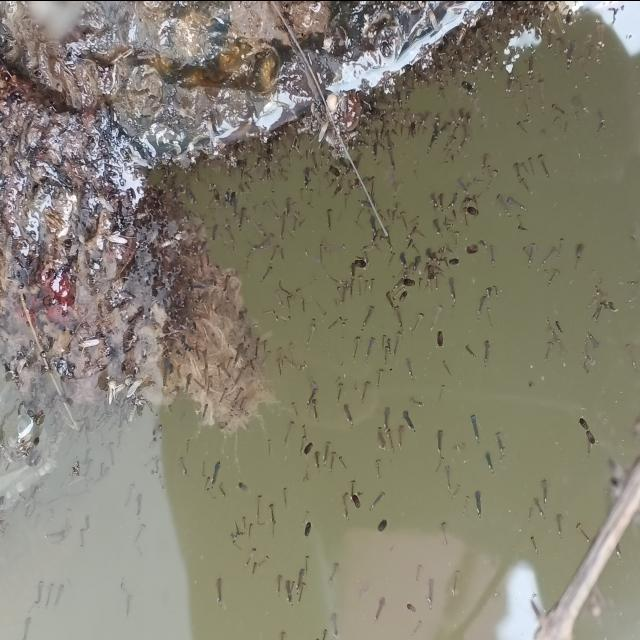Breeding Place: (0, 0, 640, 640)
Mosquito Swarm: (162, 0, 619, 640)
